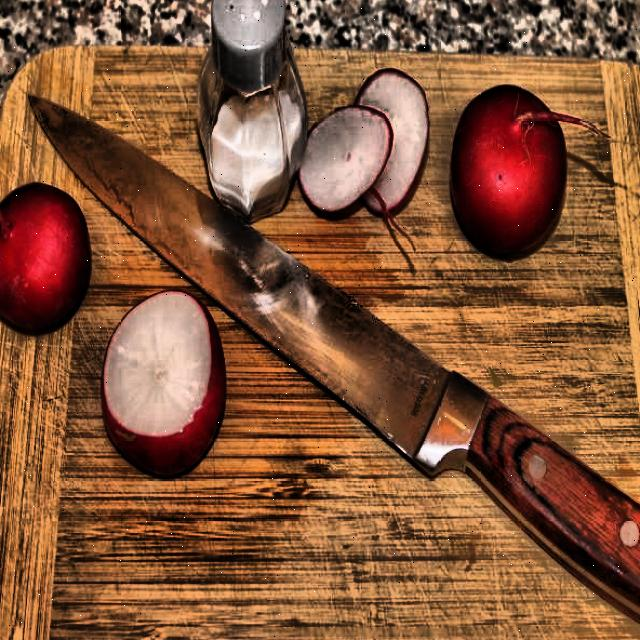knife: (24, 91, 640, 640)
